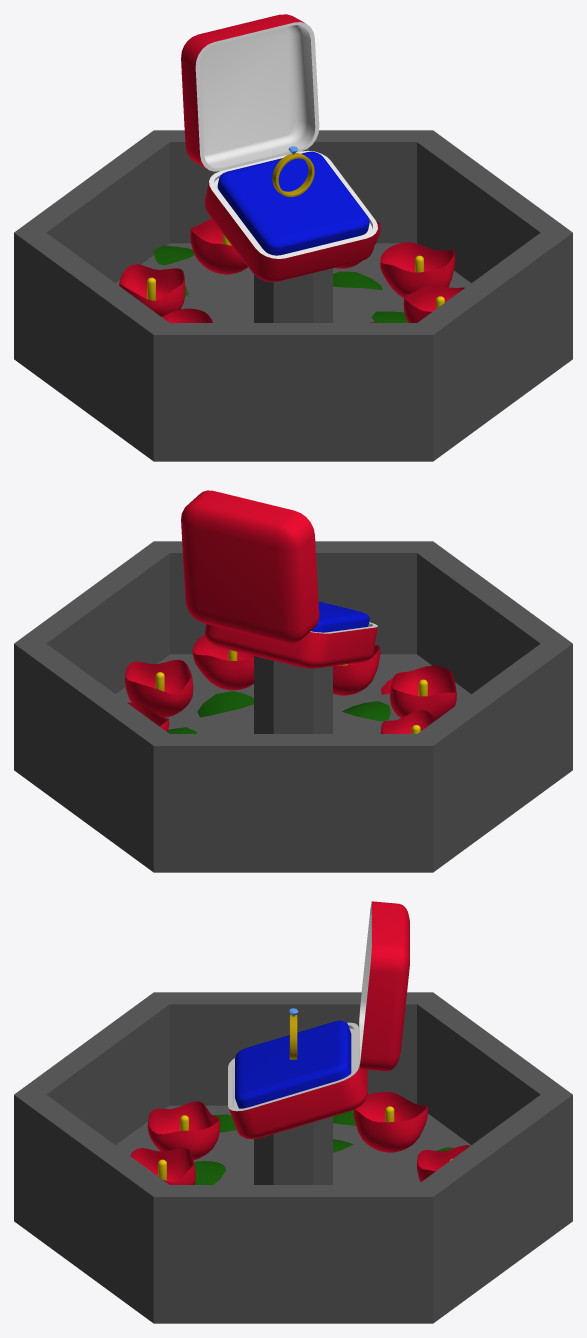
The model's file is ring.glb.
The picture shows the model from 3 angles, top to bottom: view 1: azimuth 30°, elevation 25°; view 2: azimuth 150°, elevation 25°; view 3: azimuth 270°, elevation 25°; orthographic projection.
Parts seen in each view (by area): view 1: Cylinder, Cube, Sphere, Sphere.007, Sphere.003, Sphere.004, Circle, Plane.010, Plane.012, Sphere.002; view 2: Cylinder, Cube, Sphere, Sphere.005, Sphere.004, Sphere.001, Plane.009, Sphere.002, Plane.001; view 3: Cylinder, Cube, Sphere.007, Sphere.005, Sphere.001, Sphere.003, Plane.001.
Boxes of the visible parts, <box> form: Cylinder: <box>14,130,572,461</box>; Cube: <box>181,14,377,282</box>; Sphere: <box>380,242,455,297</box>; Sphere.007: <box>119,264,185,316</box>; Sphere.003: <box>190,218,247,274</box>; Sphere.004: <box>403,285,464,322</box>; Circle: <box>272,153,314,197</box>; Plane.010: <box>333,271,382,290</box>; Plane.012: <box>154,245,194,265</box>; Sphere.002: <box>161,308,213,322</box>; Cylinder: <box>14,541,572,872</box>; Cube: <box>181,490,377,668</box>; Sphere: <box>125,659,193,717</box>; Sphere.005: <box>390,665,456,719</box>; Sphere.004: <box>192,635,253,690</box>; Sphere.001: <box>333,645,380,695</box>; Plane.009: <box>197,691,253,717</box>; Sphere.002: <box>380,710,436,733</box>; Plane.001: <box>342,701,390,721</box>; Cylinder: <box>14,992,572,1323</box>; Cube: <box>228,901,409,1139</box>; Sphere.007: <box>353,1092,427,1152</box>; Sphere.005: <box>147,1101,219,1159</box>; Sphere.001: <box>130,1148,195,1184</box>; Sphere.003: <box>416,1145,470,1182</box>; Plane.001: <box>194,1161,225,1184</box>.
Bounding box in the file's own units: 1.73 × 1.18 × 2.
